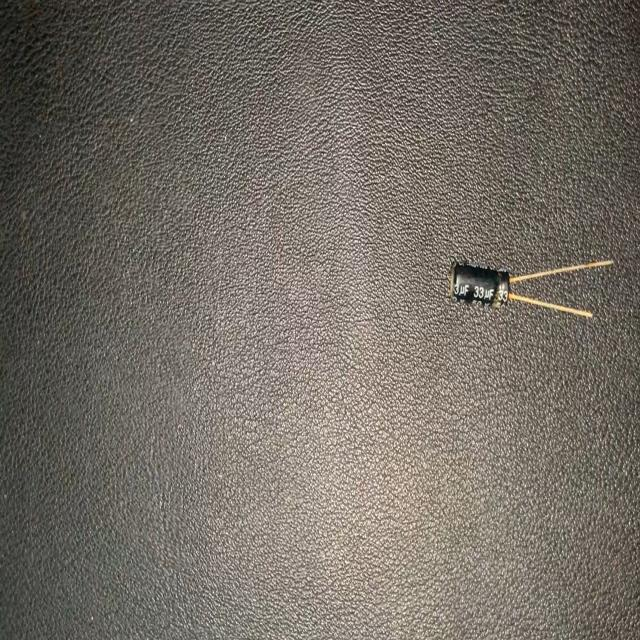capacitor: (450, 256, 615, 320)
rust: (506, 267, 529, 308), (489, 279, 510, 312), (449, 262, 459, 301)
